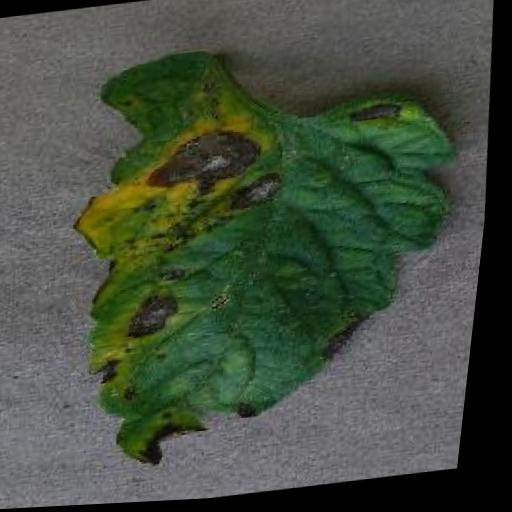Early Blight: (49, 26, 491, 481)
